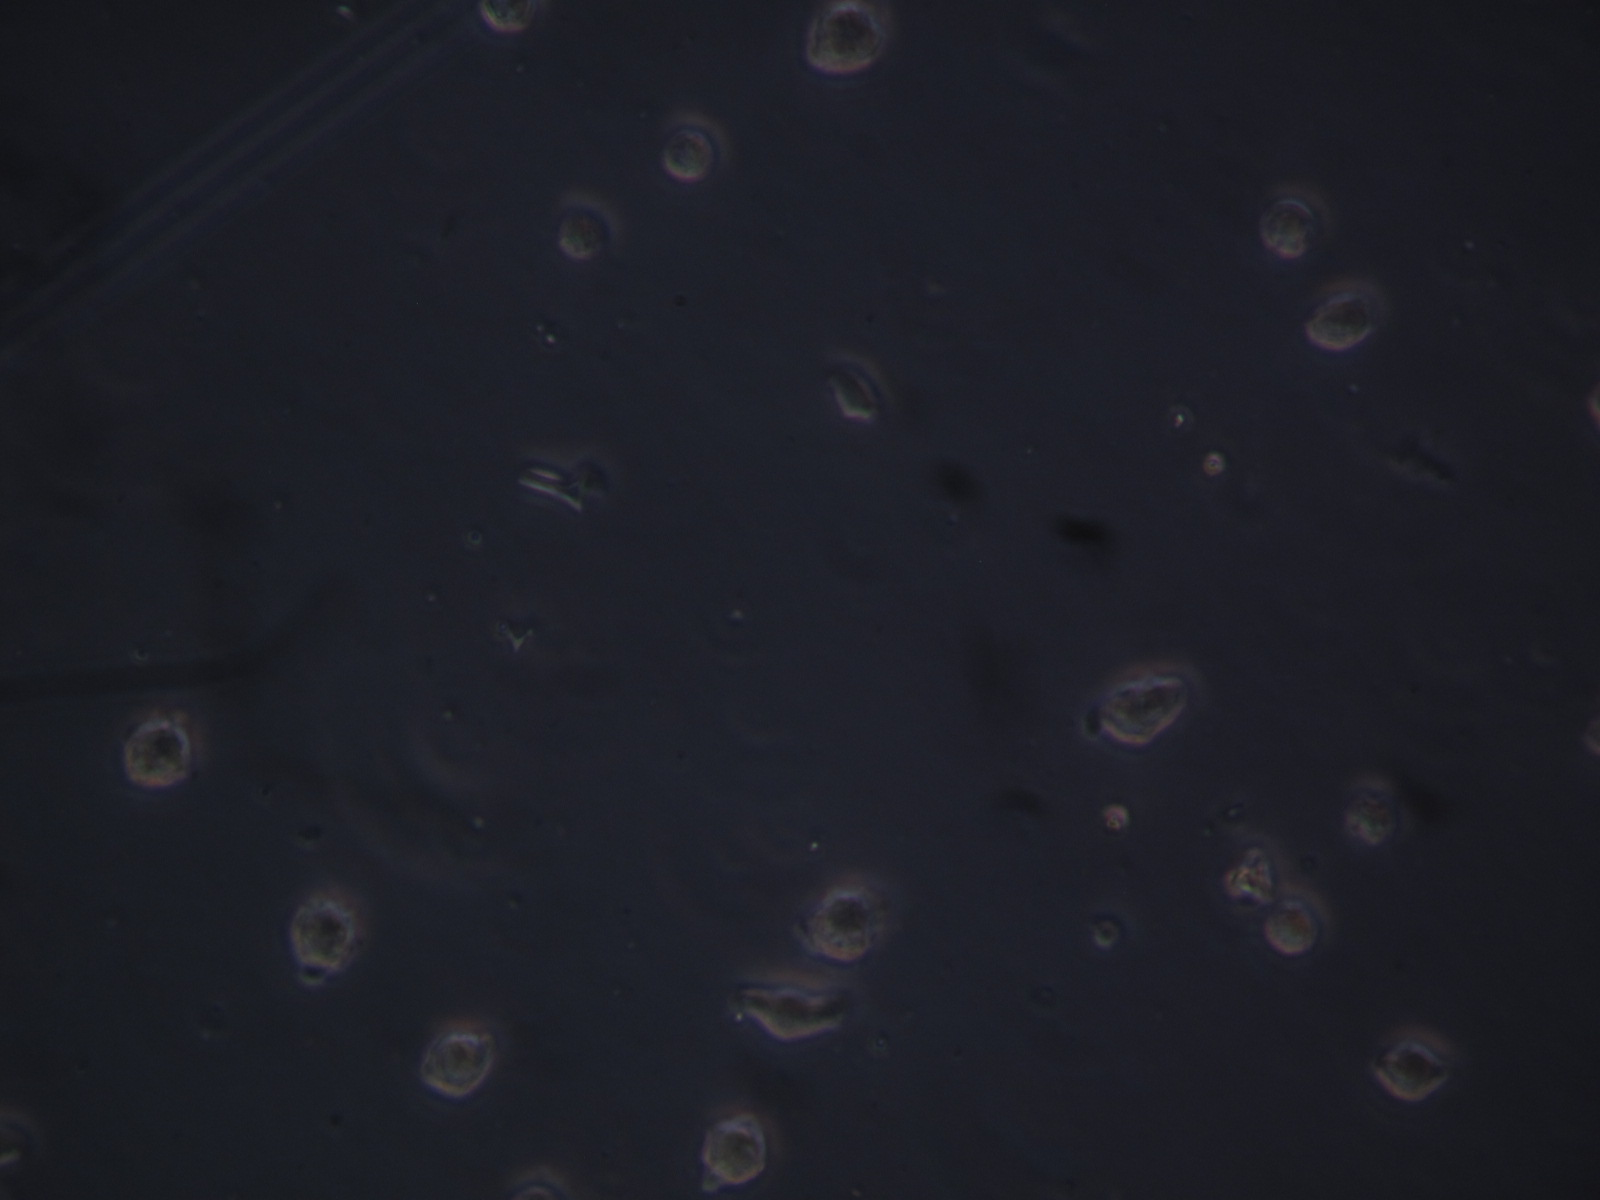hemo: (1091, 661, 1203, 747), (722, 963, 848, 1039), (699, 1109, 784, 1187), (1340, 771, 1416, 850), (291, 891, 364, 971), (805, 1, 887, 72), (1255, 185, 1330, 257), (656, 110, 731, 182), (420, 1029, 495, 1099), (123, 717, 195, 789), (814, 884, 879, 961), (828, 349, 891, 429), (1304, 287, 1380, 353), (1374, 1037, 1445, 1102), (554, 192, 624, 256), (1265, 890, 1330, 955), (481, 1, 539, 33)
